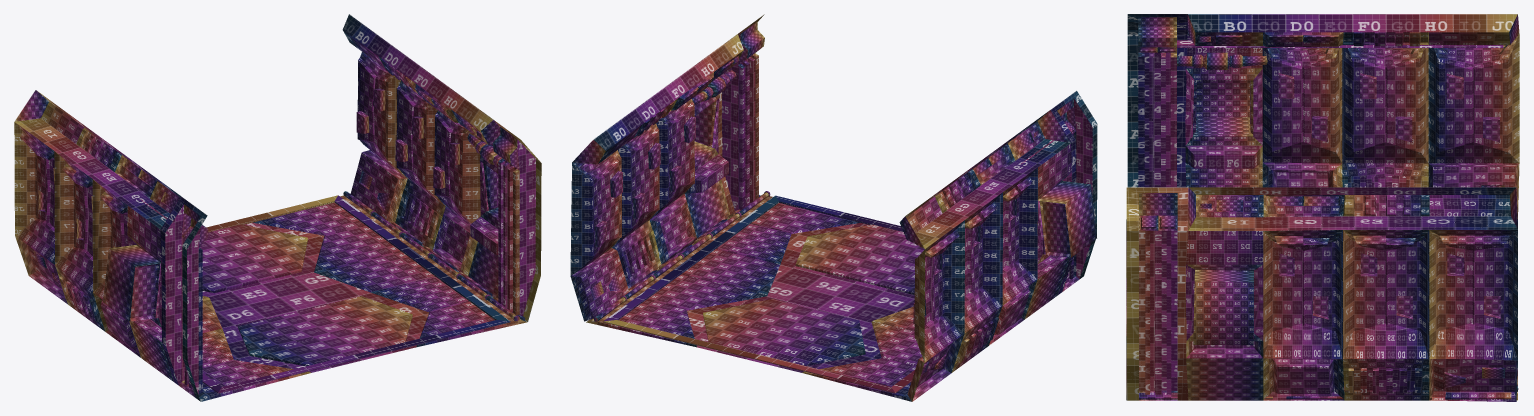
File: HallUV.fbx
The picture shows the model from 3 angles, left to right: view 1: azimuth 30°, elevation 25°; view 2: azimuth 150°, elevation 25°; view 3: azimuth 270°, elevation 25°; orthographic projection. The views are drawn at different scales.
Parts seen in each view (by area): view 1: Floor, wallL, WallRFlip, grate, pCylinder2, polySurface1; view 2: Floor, wallL, WallRFlip, grate, pCylinder2, polySurface1; view 3: WallRFlip, wallL, Floor, polySurface2, wallTube.
Part boxes in pixels (left/top/right/bottom): Floor: left=101, top=195, right=527, bottom=401; wallL: left=14, top=90, right=208, bottom=401; WallRFlip: left=342, top=14, right=541, bottom=321; grate: left=202, top=195, right=510, bottom=393; pCylinder2: left=343, top=191, right=519, bottom=321; polySurface1: left=467, top=133, right=502, bottom=166; Floor: left=586, top=195, right=924, bottom=401; wallL: left=899, top=90, right=1097, bottom=401; WallRFlip: left=570, top=14, right=764, bottom=321; grate: left=603, top=195, right=914, bottom=393; pCylinder2: left=594, top=191, right=770, bottom=321; polySurface1: left=692, top=70, right=736, bottom=104; WallRFlip: left=1126, top=187, right=1517, bottom=401; wallL: left=1127, top=14, right=1519, bottom=218; Floor: left=1126, top=219, right=1517, bottom=400; polySurface2: left=1177, top=52, right=1267, bottom=69; wallTube: left=1177, top=40, right=1507, bottom=47.
Size of the model in its own units: 19.12 by 8.19 by 13.92.
Materials: 2 (2 with a texture image).
